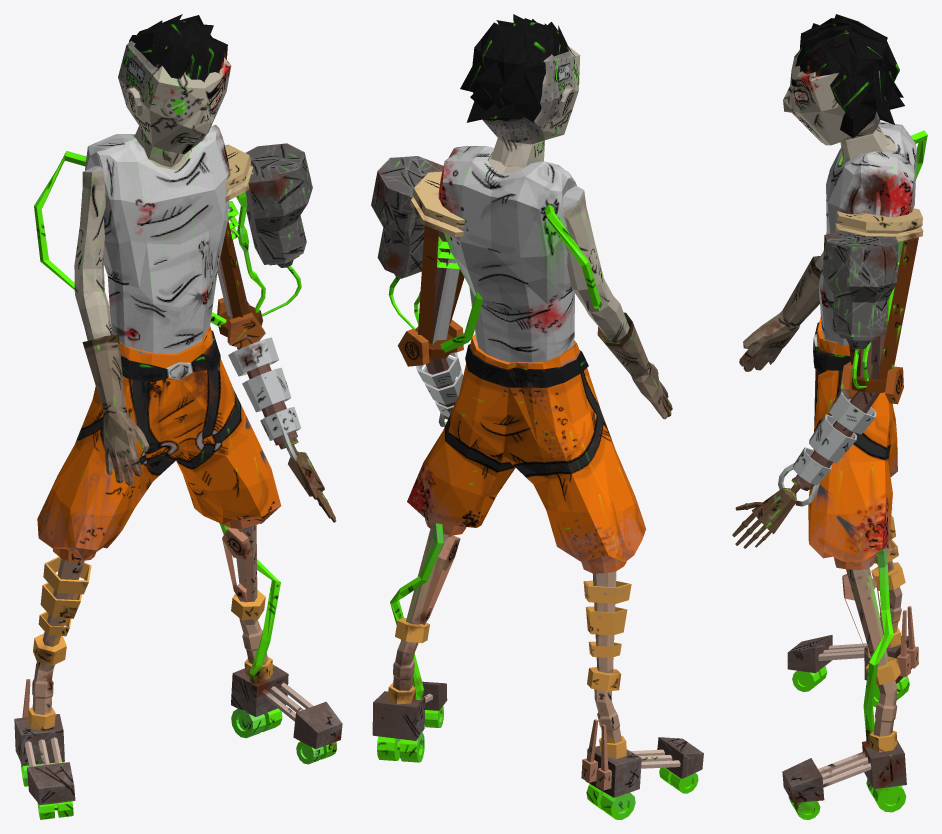
Rendered from CyborgFINALAnimation_000033.obj.
3 renders of one model, left to right at view 1: azimuth 30°, elevation 25°; view 2: azimuth 150°, elevation 25°; view 3: azimuth 270°, elevation 25°, orthographic. The views are drawn at different scales.
Parts seen in each view (by area): view 1: CyborgMesh_Cube.002; view 2: CyborgMesh_Cube.002; view 3: CyborgMesh_Cube.002.
Boxes of the visible parts, x1,y1,x2,y2 form: CyborgMesh_Cube.002: (14, 14, 342, 819); CyborgMesh_Cube.002: (371, 14, 703, 819); CyborgMesh_Cube.002: (732, 14, 927, 819).
Bounding box in the file's own units: 3.99 × 9.63 × 2.32.
